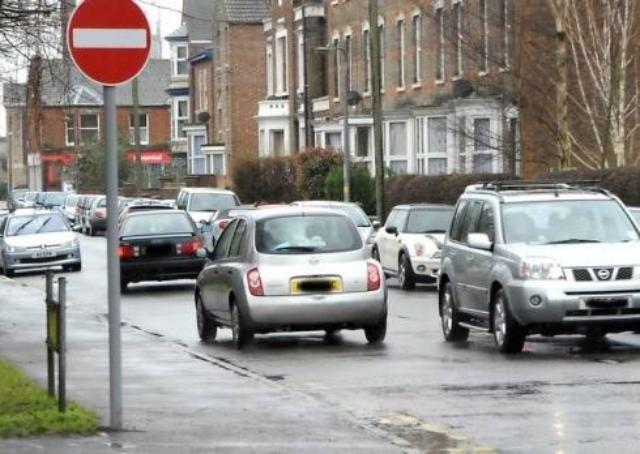B2: (63, 1, 153, 88)
